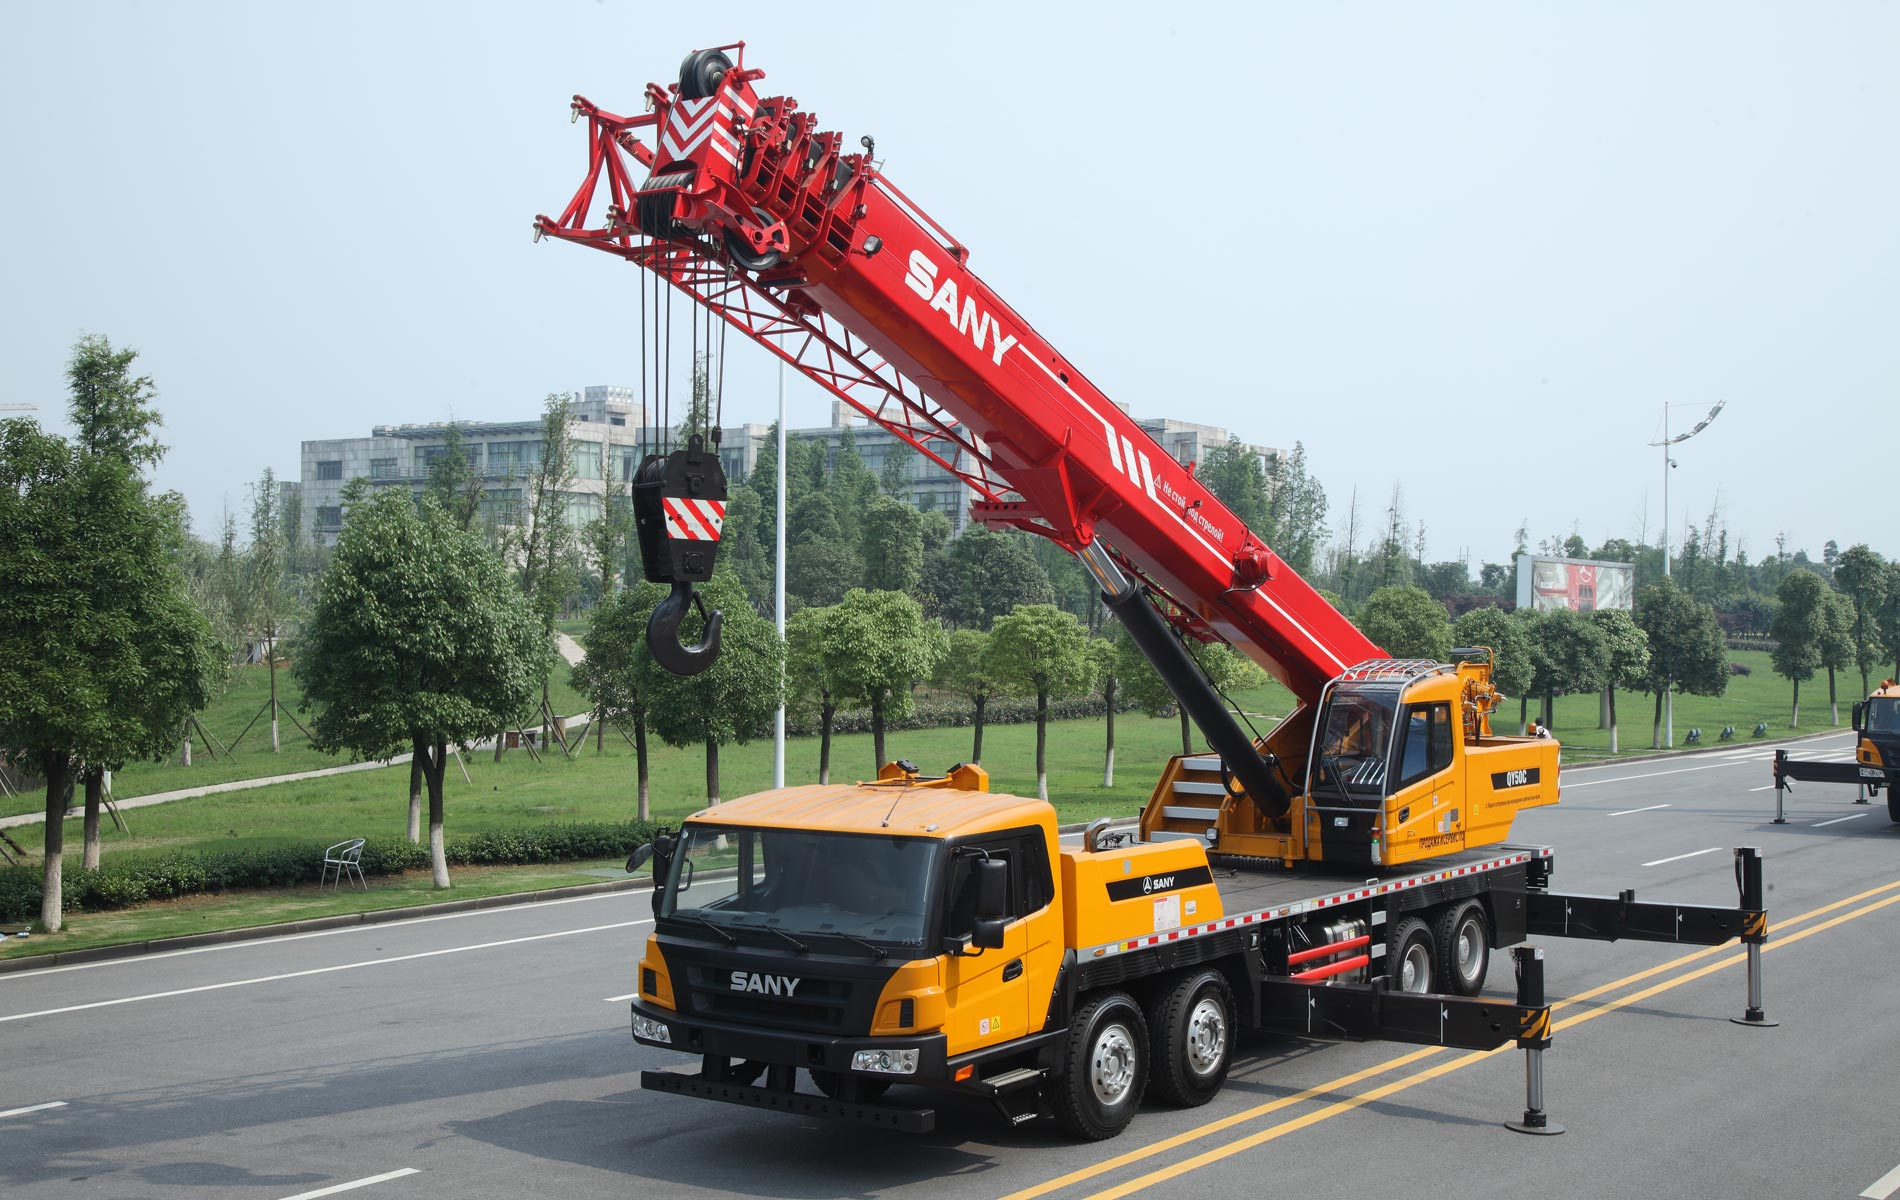crane: (544, 32, 1555, 1125)
